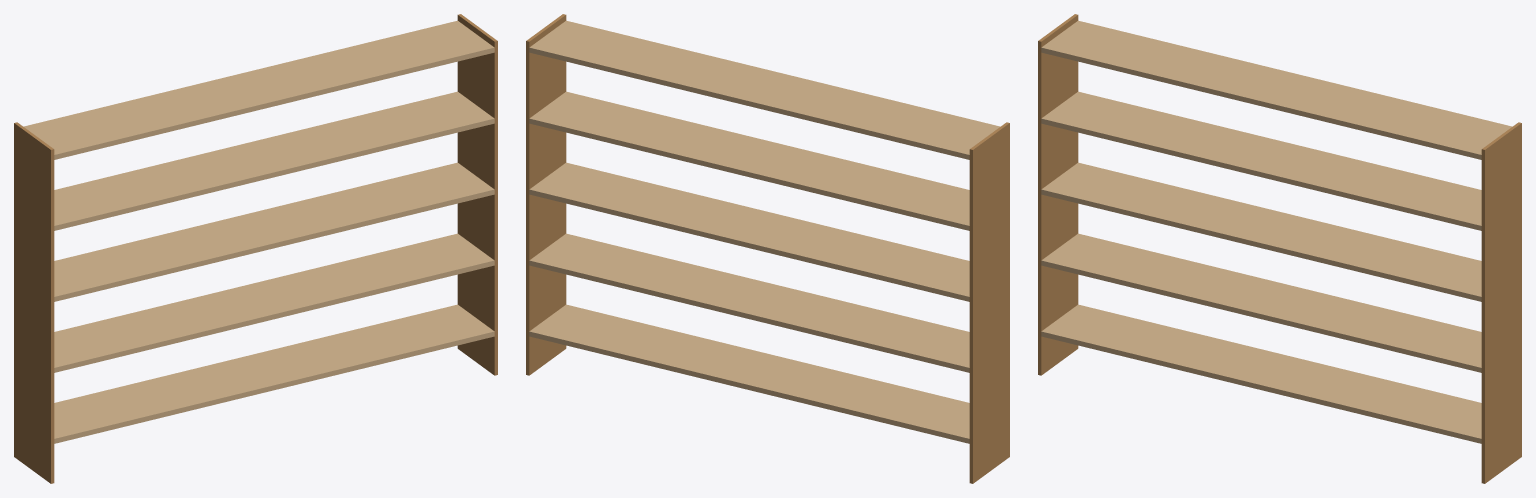
3 views of the same model, side by side, from view 1: azimuth 30°, elevation 25°; view 2: azimuth 150°, elevation 25°; view 3: azimuth 330°, elevation 25° (orthographic).
Visible parts, largest first — view 1: estante_dispensary; view 2: estante_dispensary; view 3: estante_dispensary.
Boxes of the visible parts, x1=… form: estante_dispensary: x1=14, y1=14, x2=497, y2=483; estante_dispensary: x1=526, y1=14, x2=1009, y2=483; estante_dispensary: x1=1038, y1=14, x2=1521, y2=483.
Bounding box in the file's own units: 2.8 × 0.4 × 2.
